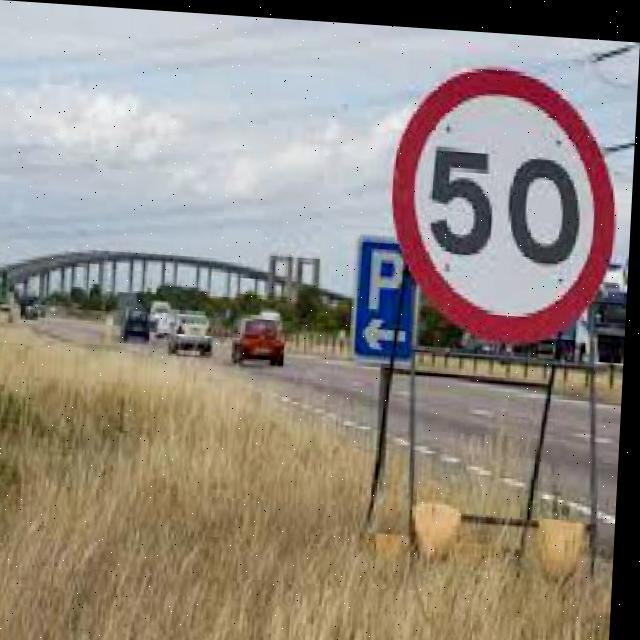Speed limit 50: (384, 51, 626, 345)
